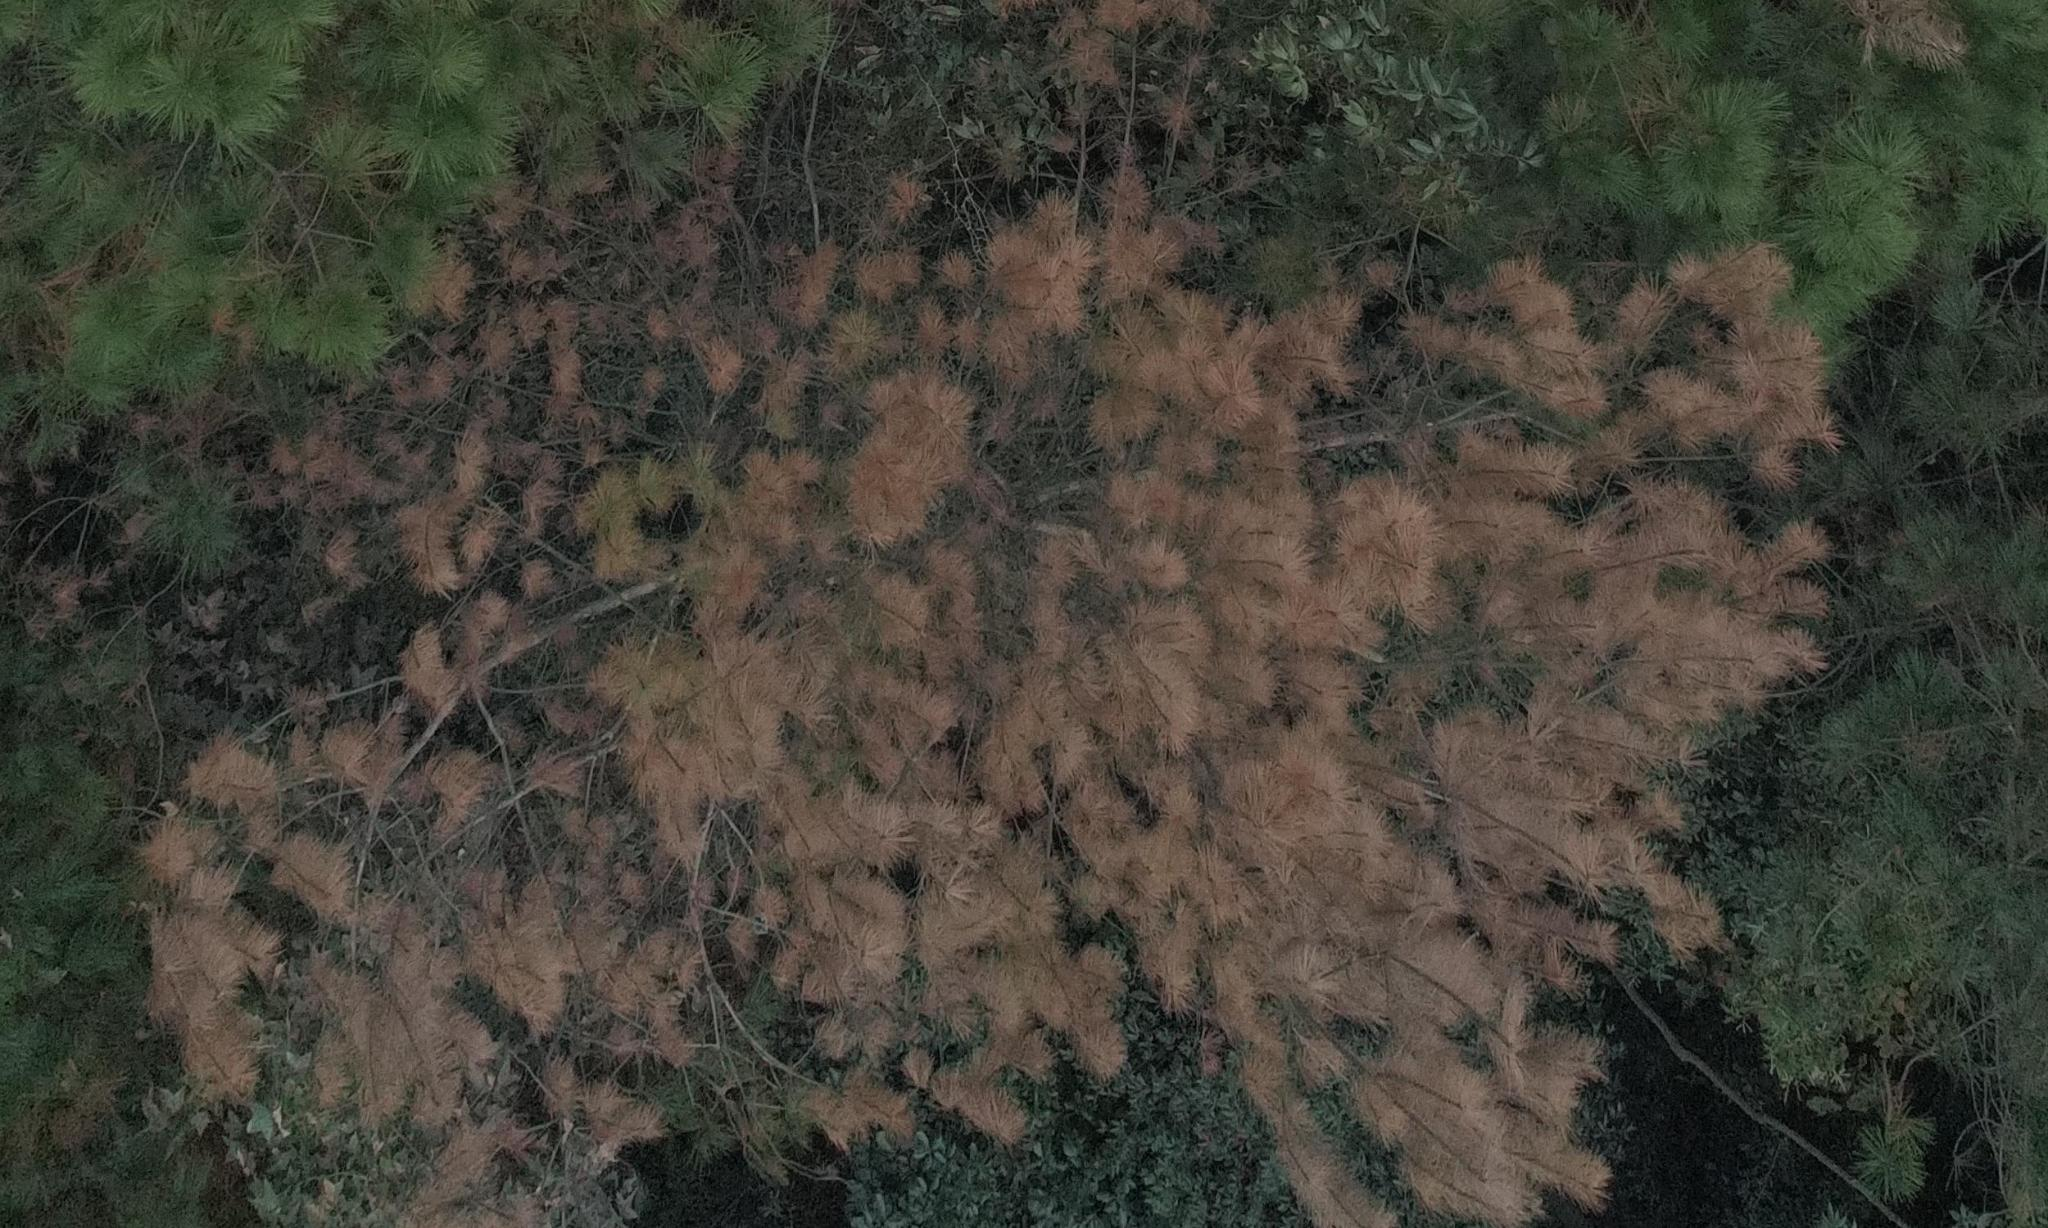heavy: (148, 181, 1835, 1215)
